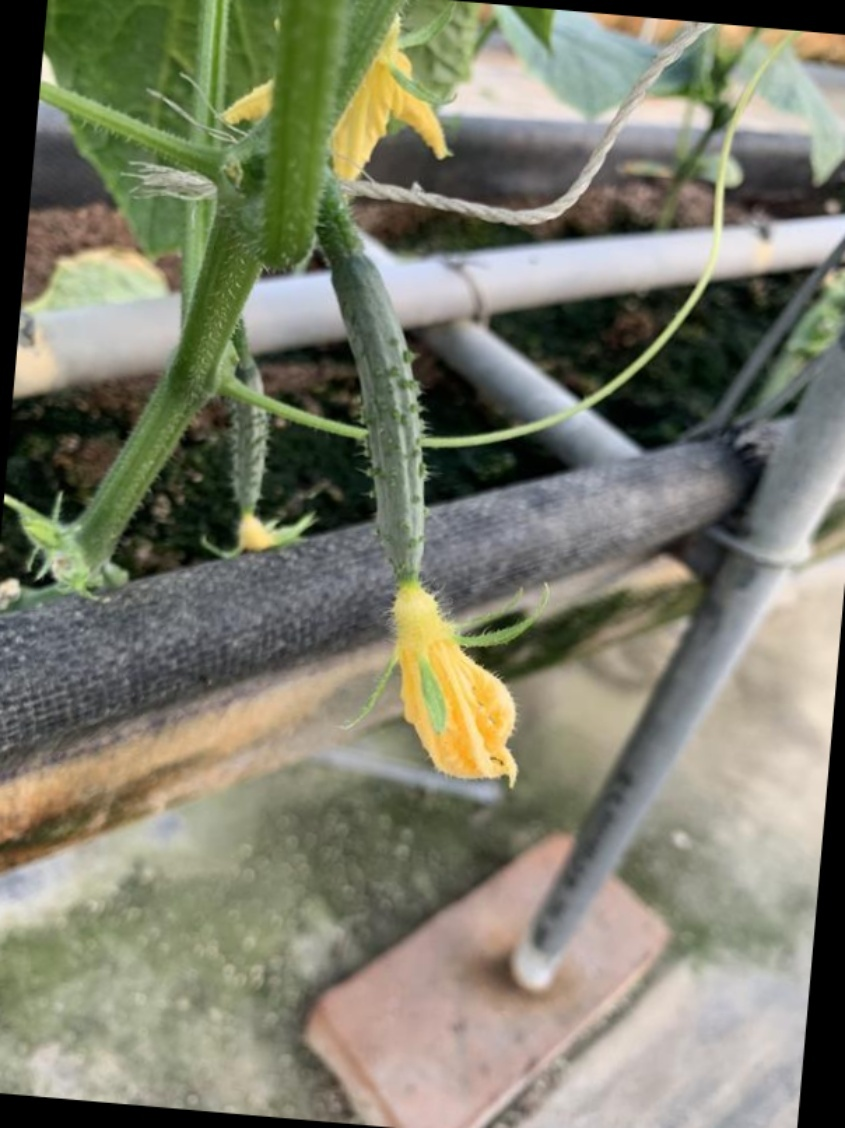bear: (298, 238, 537, 762)
